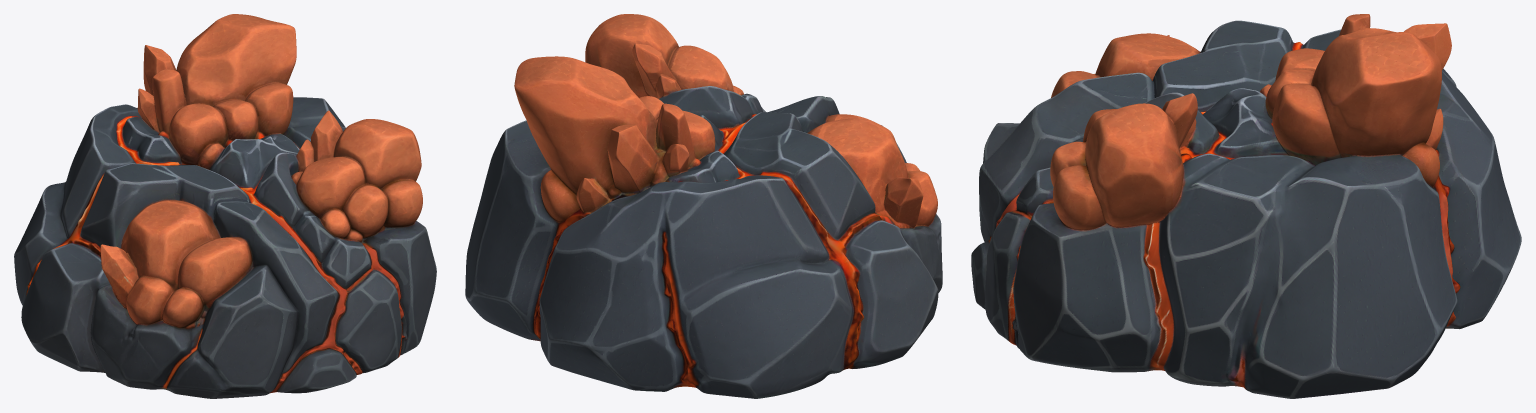
Rendered from PocketForge_CopperOre_Imported.glb.
The picture shows the model from 3 angles, left to right: view 1: azimuth 30°, elevation 25°; view 2: azimuth 150°, elevation 25°; view 3: azimuth 270°, elevation 25°; orthographic projection. The views are drawn at different scales.
Bounding box in the file's own units: 1.89 × 1.14 × 1.9.
Materials: 1 (1 with a texture image).
